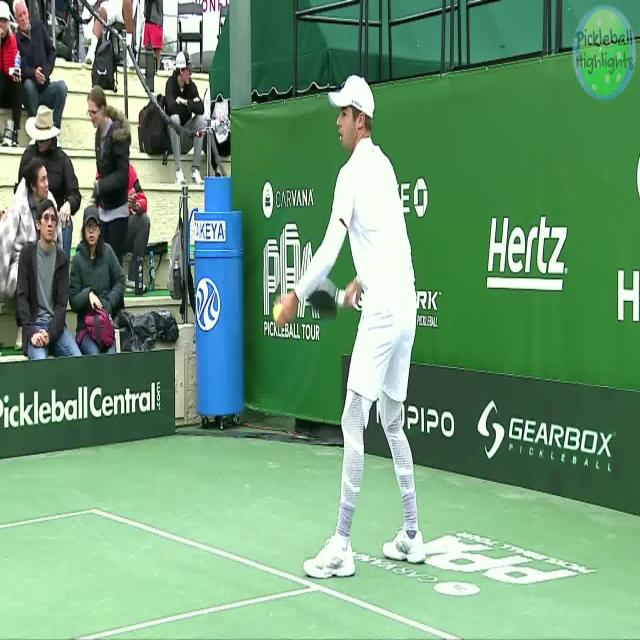ball: (272, 295, 289, 330)
